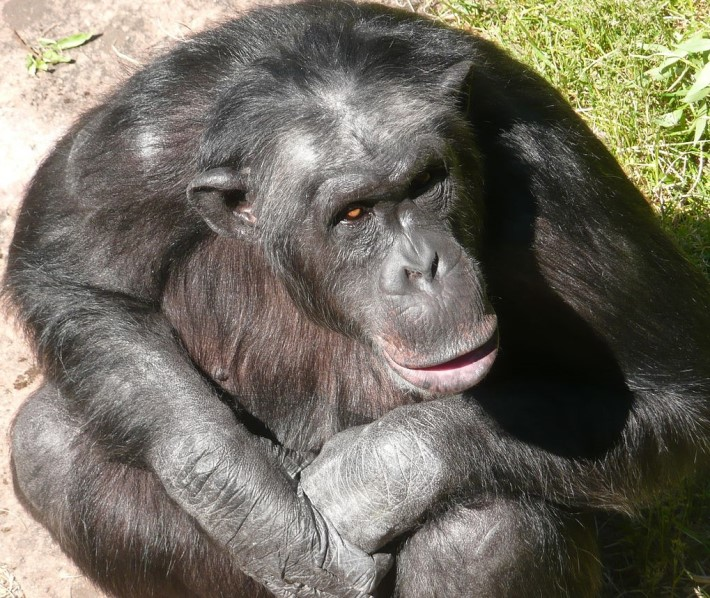Chimpanzee: (40, 14, 646, 589)
